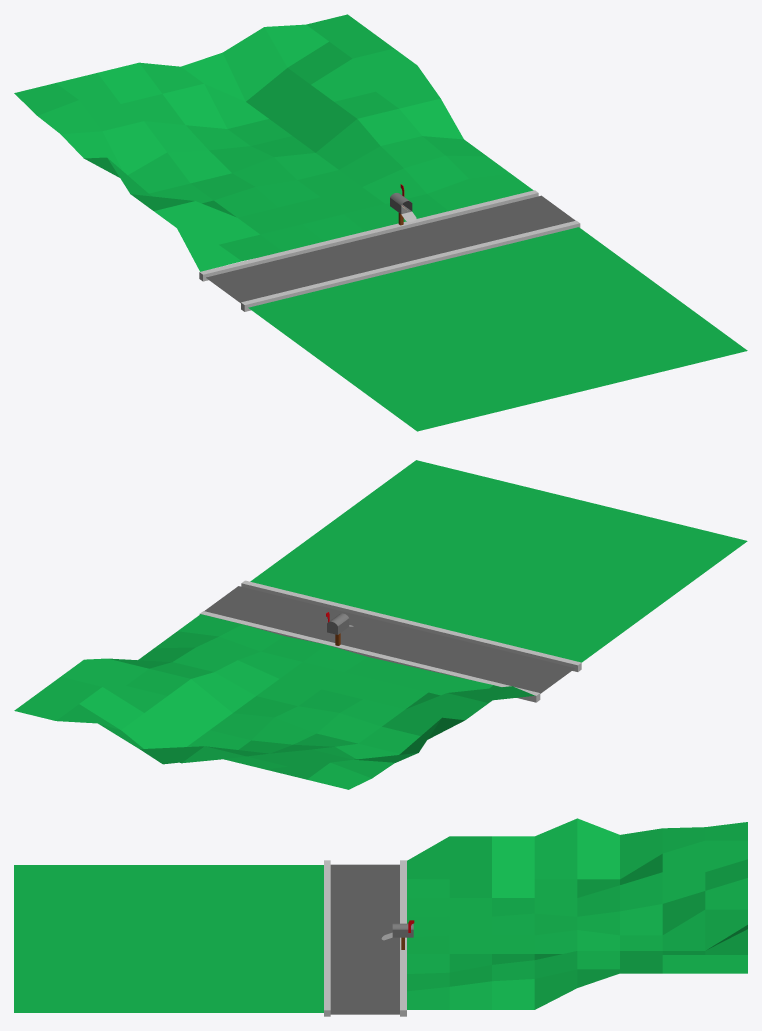
Rendered from models.gltf.
The picture shows the model from 3 angles, top to bottom: view 1: azimuth 30°, elevation 25°; view 2: azimuth 150°, elevation 25°; view 3: azimuth 270°, elevation 25°; orthographic projection. The views are drawn at different scales.
Visible parts, largest first — view 1: hill, grass, road, curbs; view 2: grass, hill, road, curbs; view 3: hill, grass, road, curbs.
Part boxes in pixels (x1,y1,x2,y2): hill: (14,14,533,271); grass: (248,227,747,431); road: (206,195,575,303); curbs: (199,190,580,311); grass: (250,460,747,662); hill: (14,614,534,789); road: (204,586,575,693); curbs: (199,580,581,702); hill: (407,818,747,1009); grass: (14,865,323,1012); road: (330,864,399,1014); curbs: (324,860,406,1016).
Bounding box in the file's own units: 51.77 × 7.94 × 106.
